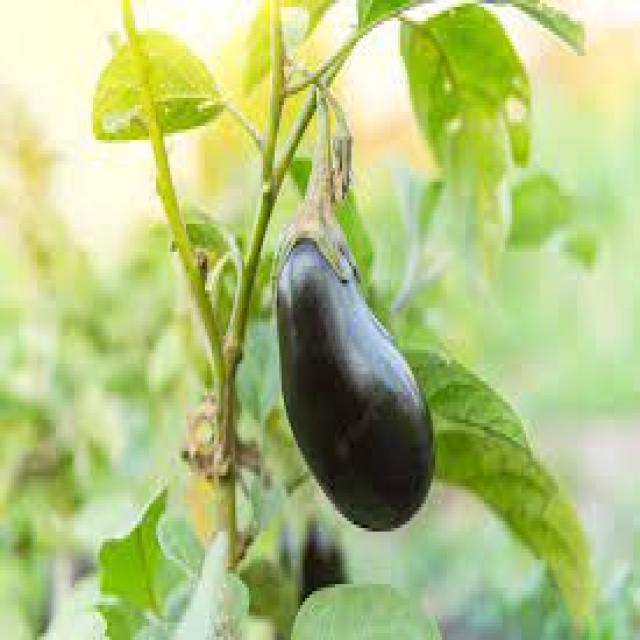Eggplant: (272, 128, 438, 538)
